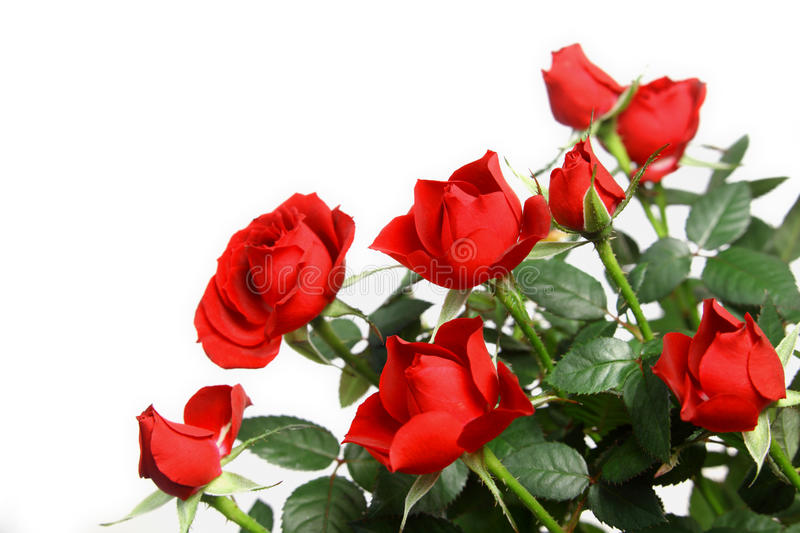RedRose: (201, 171, 375, 370), (98, 369, 264, 521), (655, 274, 800, 444), (356, 319, 521, 464), (379, 128, 548, 268), (611, 55, 713, 187), (541, 22, 637, 128)
